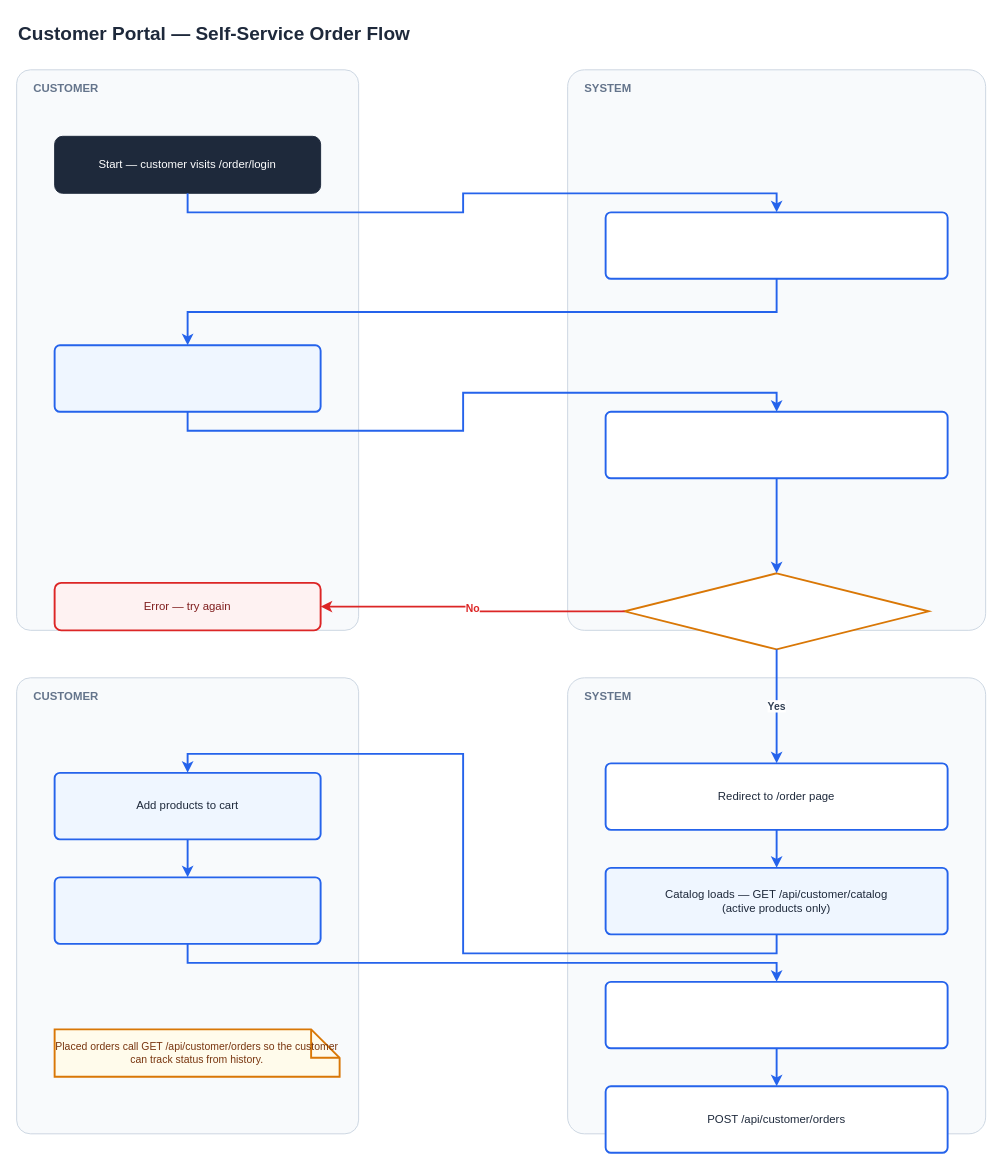
This 1002x1169 diagram has some shape labels left out. Each missing label, with the centre of its shape:
"Credentials valid?" goes at [776,611].
"Fill custom fields from assigned form template" goes at [187,910].
"Login form rendered (CustomerAuthProvider)" goes at [776,245].
"POST /auth/customer/login → session cookie" goes at [776,444].
"Review order → place order" goes at [776,1014].
"Submits email & password" goes at [187,378].
